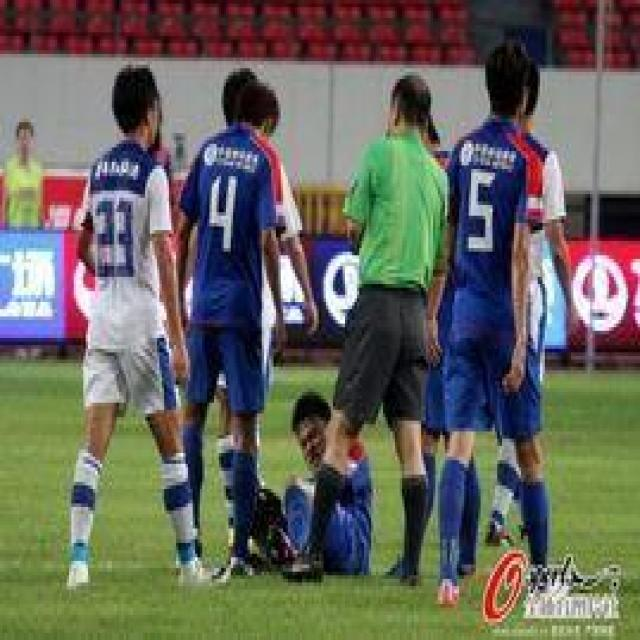fall: (236, 370, 386, 582)
nonfall: (76, 59, 206, 576), (447, 45, 560, 575), (174, 79, 280, 565), (348, 55, 438, 541)
